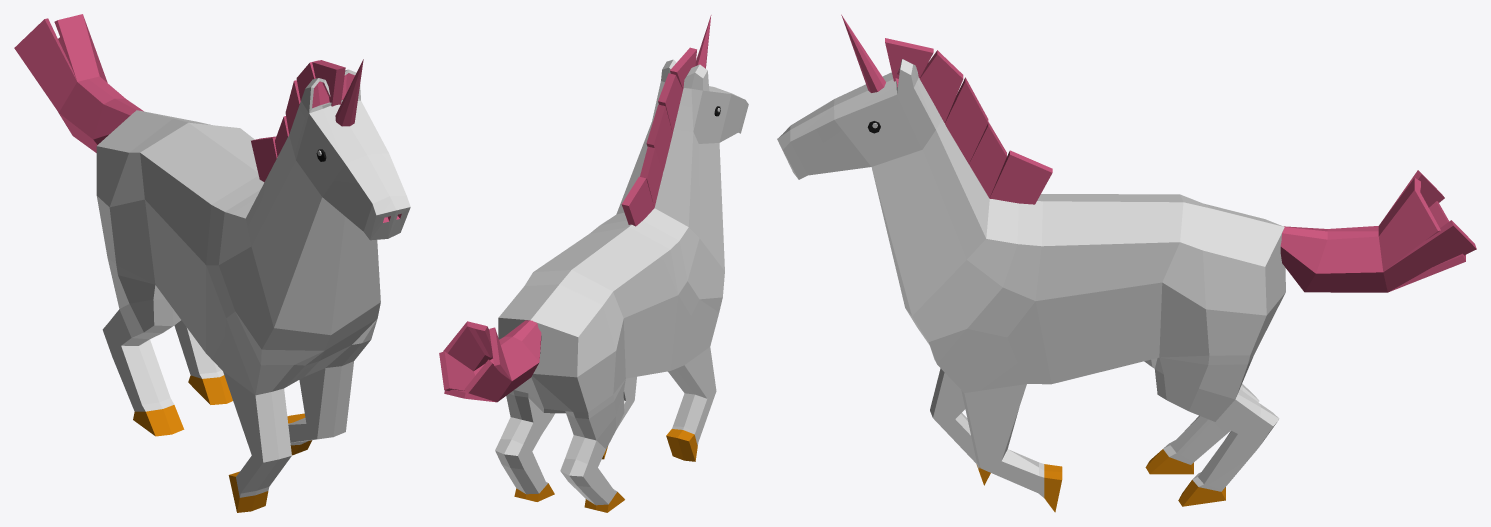
Rendered from Unicorn_01.fbx.
The picture shows the model from 3 angles, left to right: view 1: azimuth 30°, elevation 25°; view 2: azimuth 150°, elevation 25°; view 3: azimuth 270°, elevation 25°; orthographic projection. The views are drawn at different scales.
Parts seen in each view (by area): view 1: Unicorn_01; view 2: Unicorn_01; view 3: Unicorn_01.
Boxes of the visible parts, x1,y1,x2,y2 form: Unicorn_01: (14,14,410,512); Unicorn_01: (439,15,748,512); Unicorn_01: (777,14,1476,512).
Bounding box in the file's own units: 4.03 × 14.19 × 18.52.
